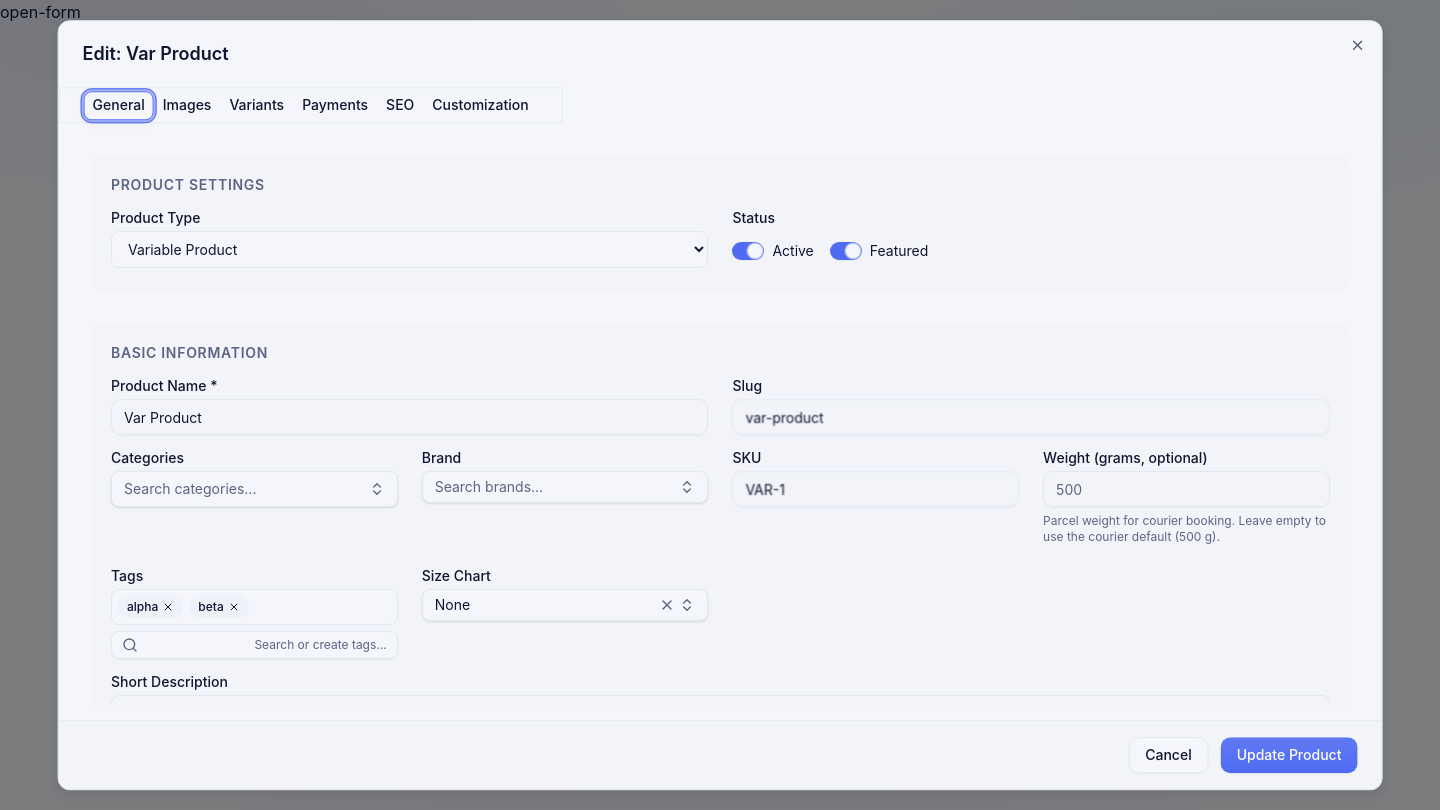
Test: ProductForm edit-mode initialization (staging regression) › variable product loads its variants from the full product in edit mode
Expected: the field with placeholder "Product name" below "Product Name *" holds "Var Product", [111,399,708,435]
Click the tab "Variants": (257, 105) [220,91,293,120]
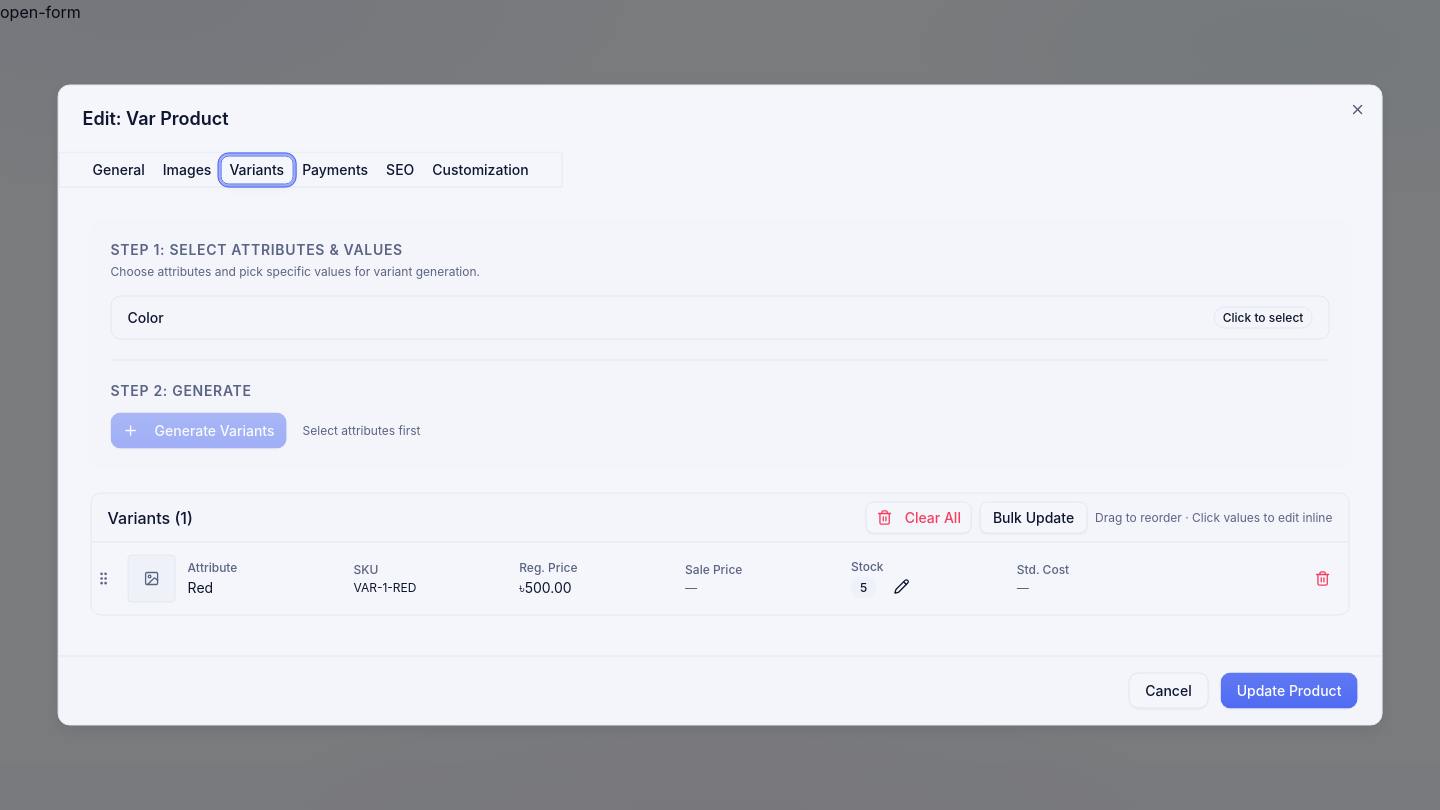
Result: the text "VAR-1-RED" is shown at [353,580,416,596]
